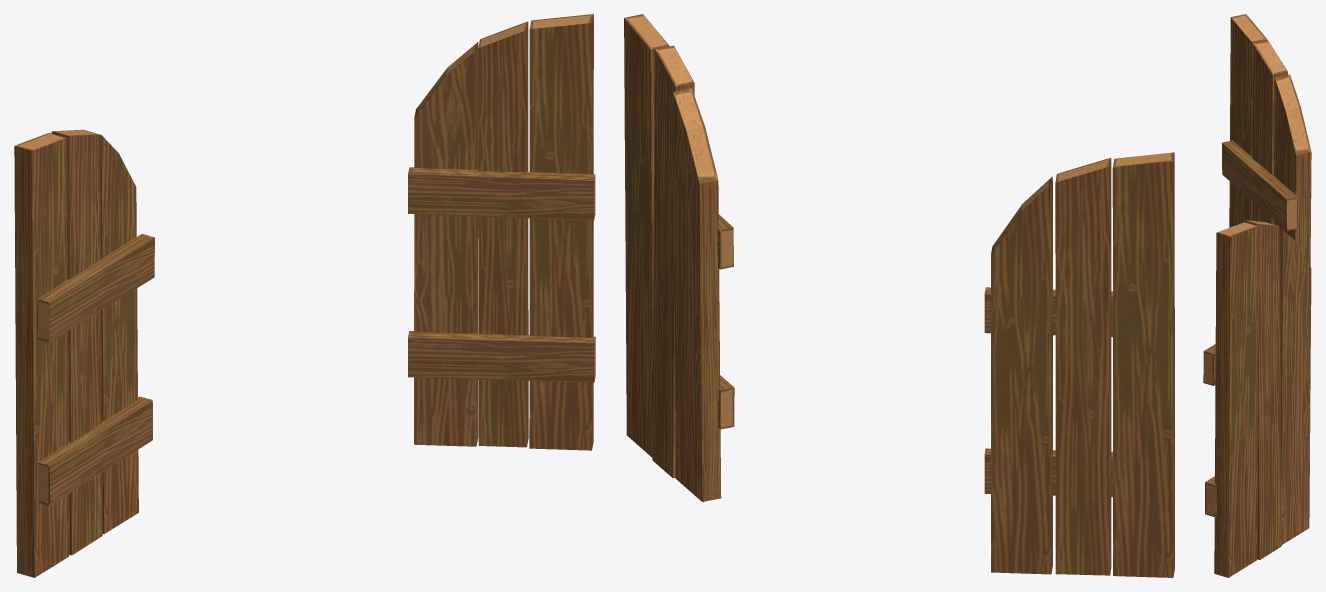
File: WindowShutters_Wide_Round_Open.glb
3 renders of one model, left to right at view 1: azimuth 30°, elevation 25°; view 2: azimuth 150°, elevation 25°; view 3: azimuth 270°, elevation 25°, orthographic. The views are drawn at different scales.
Parts seen in each view (by area): view 1: WindowShutters_Wide_Round_Open; view 2: WindowShutters_Wide_Round_Open; view 3: WindowShutters_Wide_Round_Open.
Boxes of the visible parts, x1,y1,x2,y2 form: WindowShutters_Wide_Round_Open: (14,14,595,577); WindowShutters_Wide_Round_Open: (624,14,1174,577); WindowShutters_Wide_Round_Open: (1203,14,1311,577).
Bounding box in the file's own units: 2.3 × 1.65 × 0.4724.
Materials: 1 (1 with a texture image).
